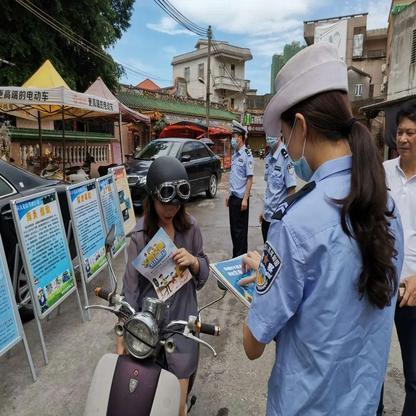target: (83, 155, 223, 412)
